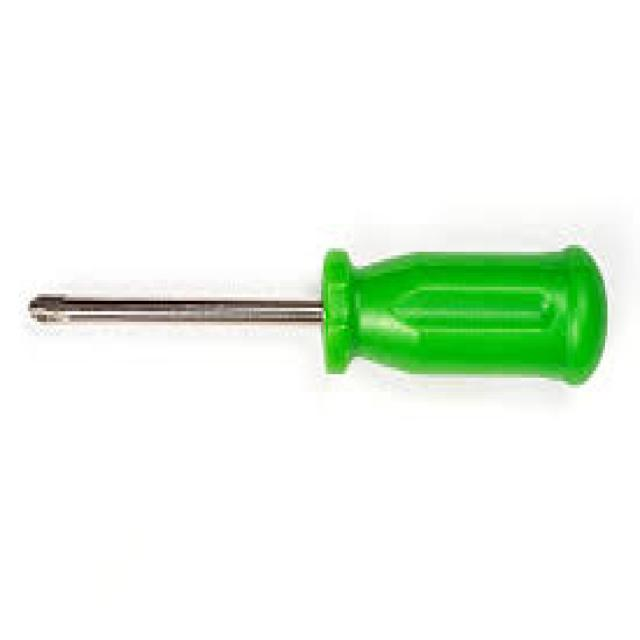Screwdriver: (30, 246, 607, 382)
